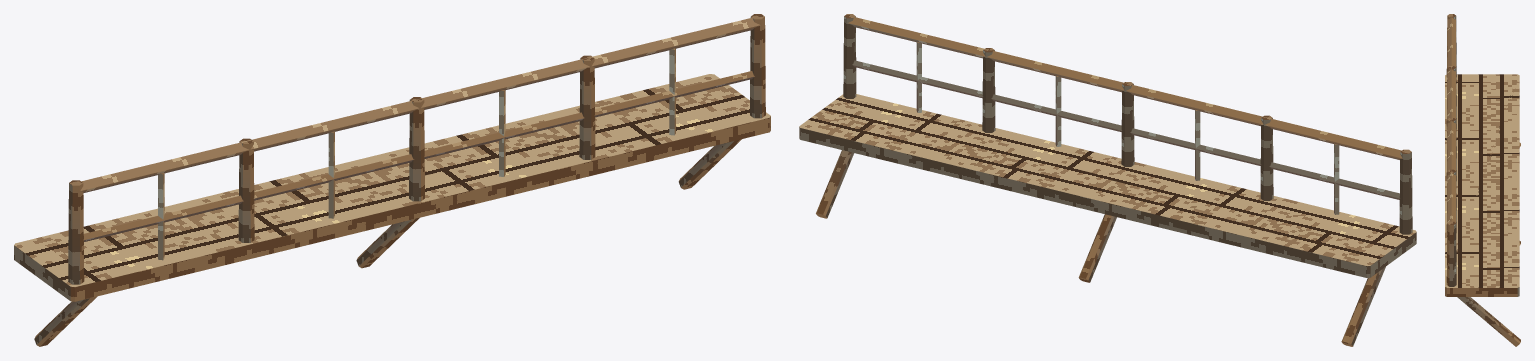
Rendered from wtown.balcony__wide.glb.
3 renders of one model, left to right at view 1: azimuth 30°, elevation 25°; view 2: azimuth 150°, elevation 25°; view 3: azimuth 270°, elevation 25°, orthographic. The views are drawn at different scales.
Visible parts, largest first — view 1: kit_deck, kit_railing, kit_brackets; view 2: kit_deck, kit_railing, kit_brackets; view 3: kit_deck, kit_railing, kit_brackets.
Part boxes in pixels (x1,y1,x2,y2): kit_deck: [14, 74, 770, 301]; kit_railing: [68, 14, 765, 284]; kit_brackets: [34, 139, 741, 346]; kit_deck: [799, 94, 1416, 277]; kit_railing: [843, 14, 1412, 234]; kit_brackets: [816, 150, 1385, 346]; kit_deck: [1445, 74, 1519, 296]; kit_railing: [1446, 14, 1456, 286]; kit_brackets: [1457, 142, 1520, 346].
Size of the model in its own units: 7.5 by 2.1 by 1.13.
4 materials, 4 textured.
